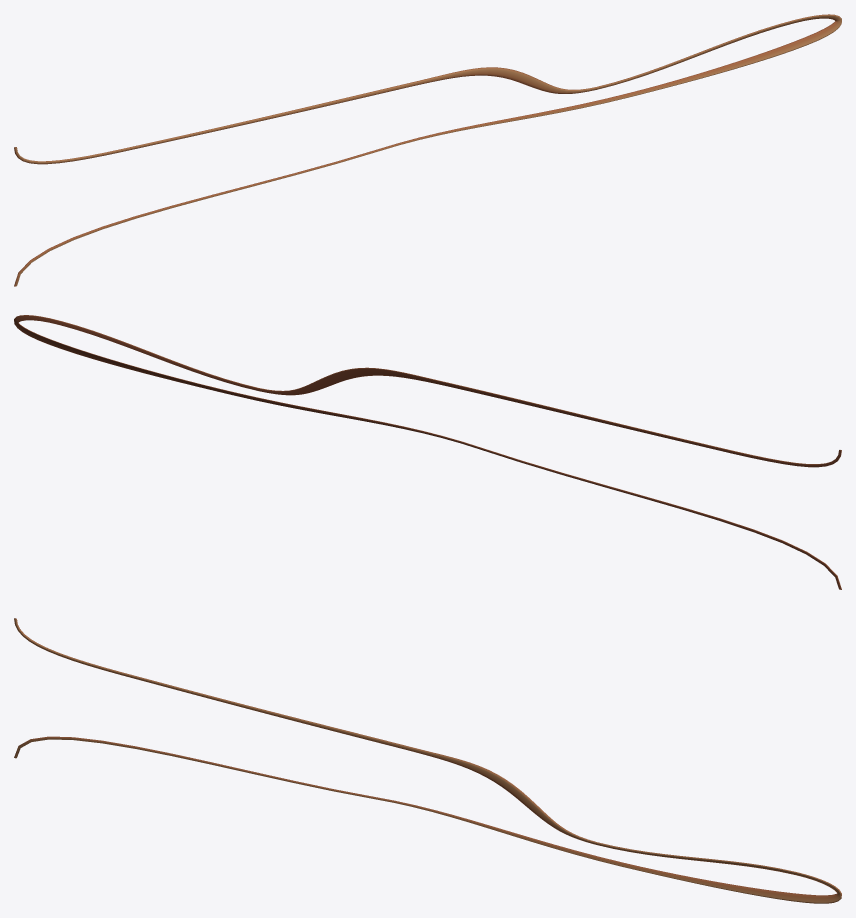
The model's file is splice-fold.glb.
3 renders of one model, top to bottom at view 1: azimuth 30°, elevation 25°; view 2: azimuth 150°, elevation 25°; view 3: azimuth 330°, elevation 25°, orthographic.
Parts seen in each view (by area): view 1: SpliceTape; view 2: SpliceTape; view 3: SpliceTape.
Part boxes in pixels (<box>): SpliceTape: <box>14,14,841,286</box>; SpliceTape: <box>14,315,841,589</box>; SpliceTape: <box>14,618,841,903</box>.
Bounding box in the file's own units: 8.99 × 1.44 × 0.0878.
